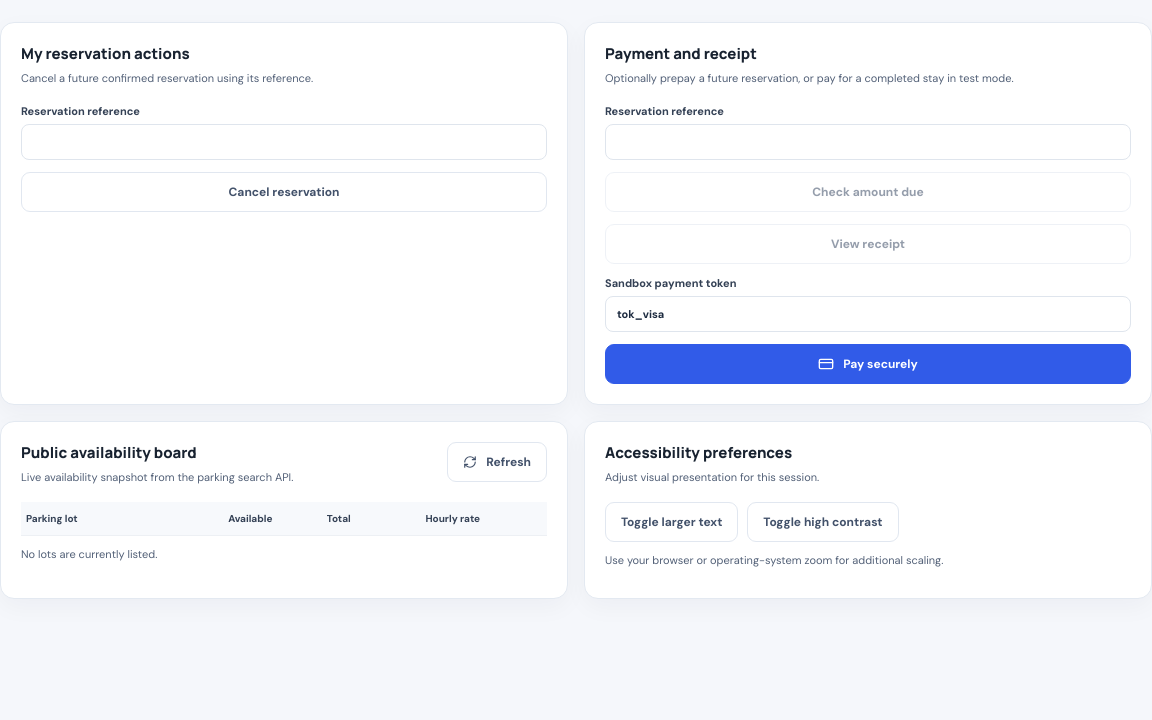
Test: shows a reservation quote and printable receipt
Type "reservation-1" into the field labelled "Reservation reference" below "Payment and receipt".
click(868, 142); type("reservation-1")  # box [605,124,1131,160]
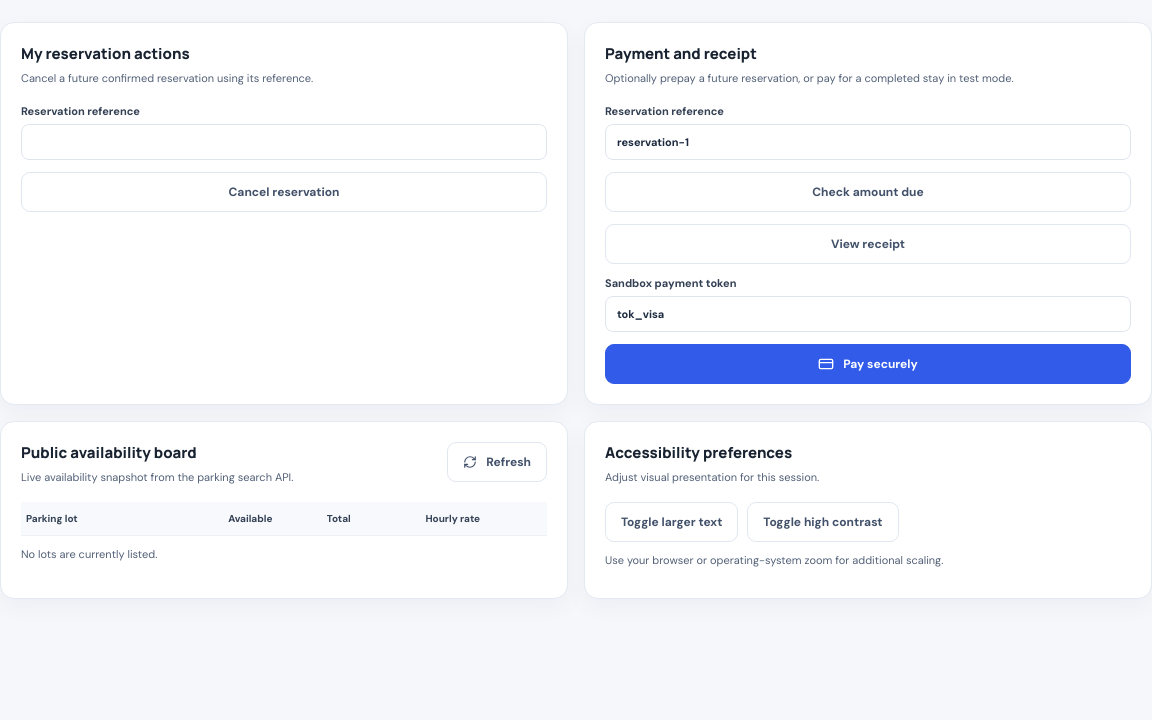
Click the button "Check amount due".
click(868, 192)  # box [605,172,1131,212]
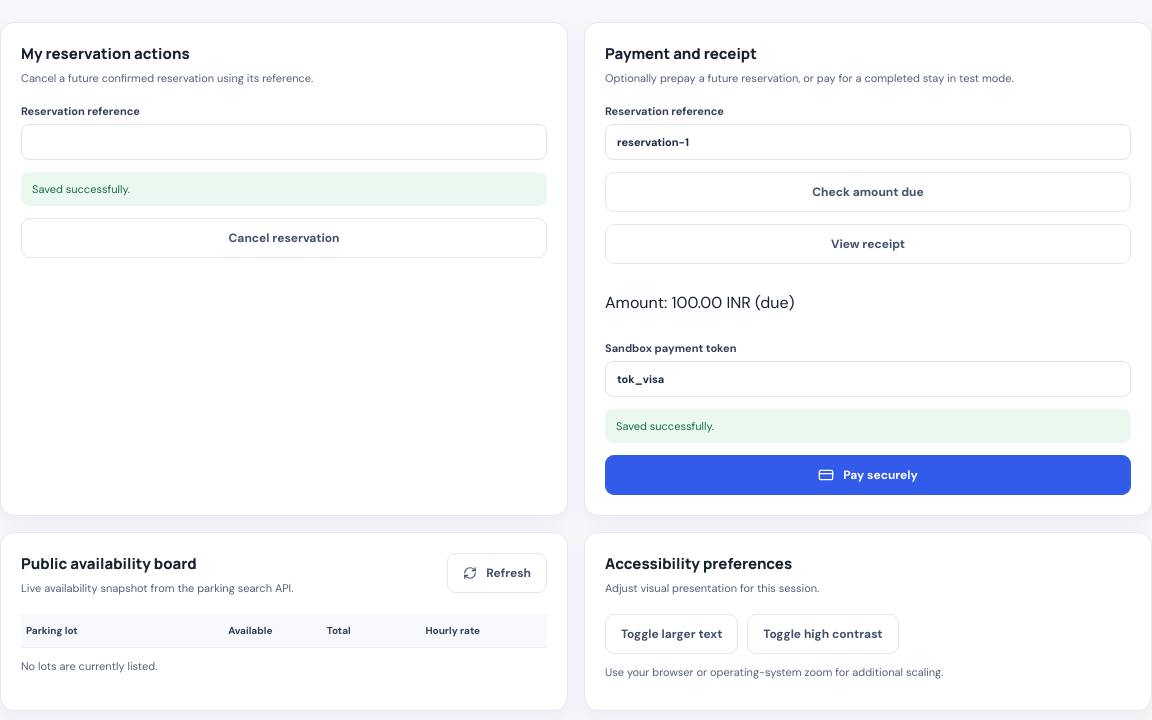
Result: the text "Amount: 100.00 INR (due)" is shown at [605,292,795,312]
Click the button "Pay securely".
click(868, 475)  # box [605,455,1131,495]
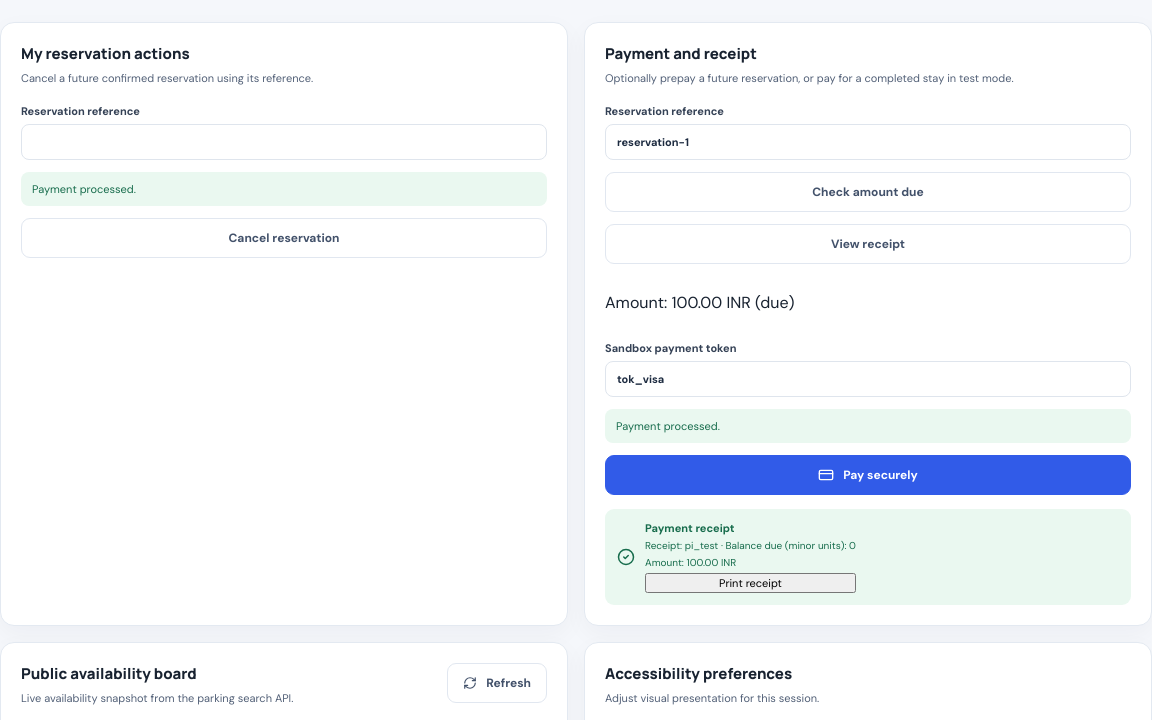
Result: the button "Print receipt" is shown at [645,573,856,593]
